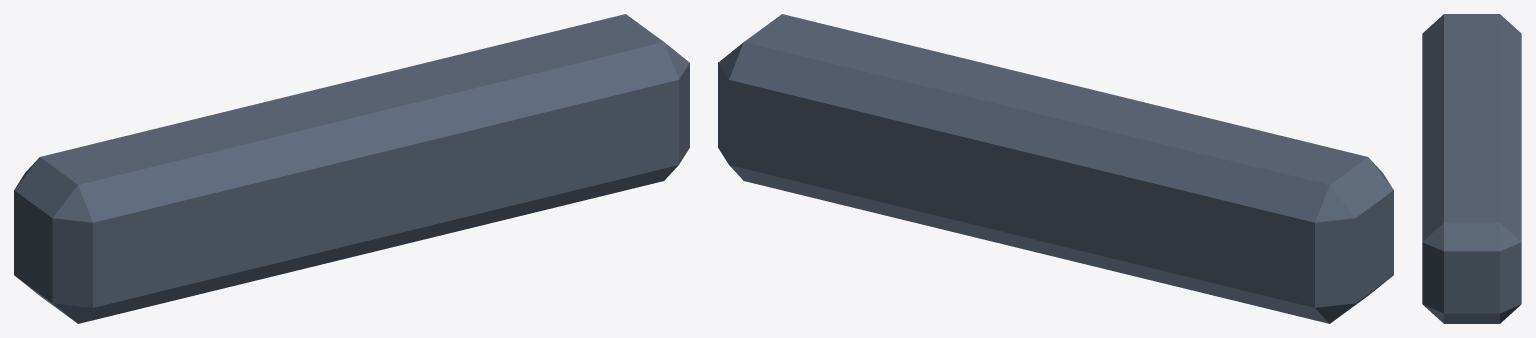
File: right_shoulder__edge_trim__base.glb
3 renders of one model, left to right at view 1: azimuth 30°, elevation 25°; view 2: azimuth 150°, elevation 25°; view 3: azimuth 270°, elevation 25°, orthographic. The views are drawn at different scales.
Parts seen in each view (by area): view 1: armor_right_shoulder__edge_trim__base_v001; view 2: armor_right_shoulder__edge_trim__base_v001; view 3: armor_right_shoulder__edge_trim__base_v001.
Part boxes in pixels (x1,y1,x2,y2): armor_right_shoulder__edge_trim__base_v001: [14, 14, 689, 323]; armor_right_shoulder__edge_trim__base_v001: [718, 14, 1393, 323]; armor_right_shoulder__edge_trim__base_v001: [1422, 14, 1521, 323].
Bounding box in the file's own units: 0.0744 × 0.0155 × 0.0137.
